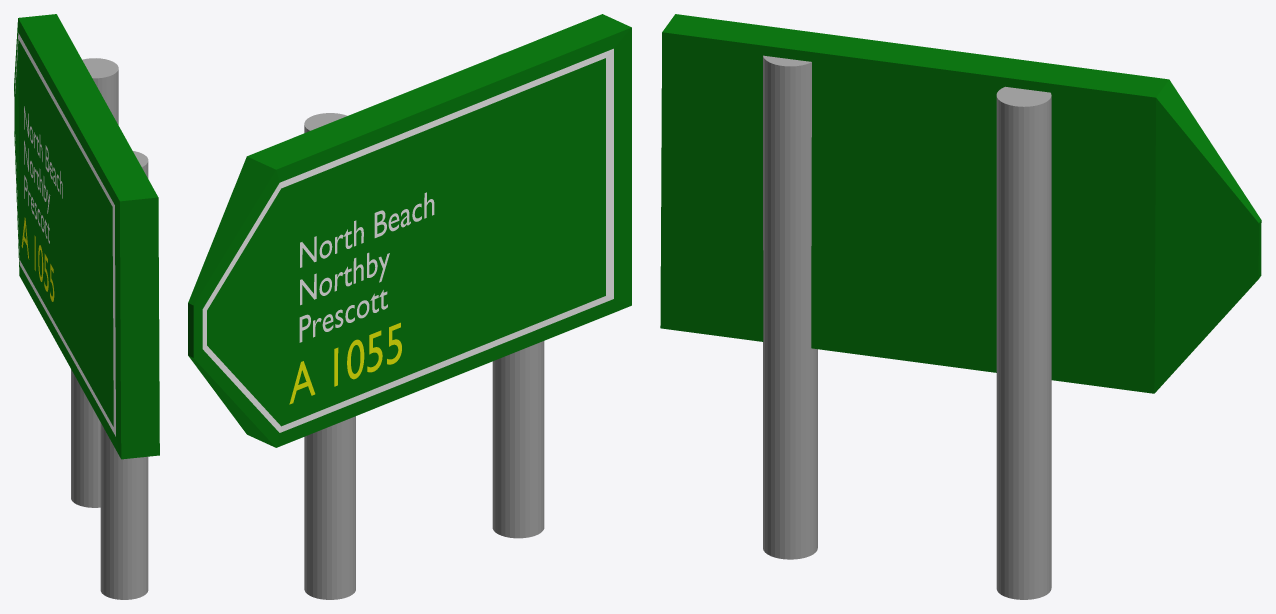
Rendered from ChevronLeftHalifaxParkRoundabout3.fbx.
3 views of the same model, side by side, from view 1: azimuth 30°, elevation 25°; view 2: azimuth 150°, elevation 25°; view 3: azimuth 270°, elevation 25° (orthographic). The views are drawn at different scales.
Parts seen in each view (by area): view 1: Cube.030, Cylinder.002, Cylinder.001, Text.007, Text.008; view 2: Cube.030, Cylinder.002, Cylinder.001, Text.007, Text.008; view 3: Cube.030, Cylinder.001, Cylinder.002.
Boxes of the visible parts, x1,y1,x2,y2 form: Cube.030: [14, 14, 159, 459]; Cylinder.002: [100, 151, 148, 599]; Cylinder.001: [71, 58, 118, 507]; Text.007: [24, 106, 62, 243]; Text.008: [21, 217, 54, 301]; Cube.030: [188, 14, 631, 447]; Cylinder.002: [492, 53, 544, 538]; Cylinder.001: [304, 113, 355, 599]; Text.007: [299, 192, 434, 342]; Text.008: [289, 322, 401, 404]; Cube.030: [660, 14, 1261, 393]; Cylinder.001: [996, 86, 1051, 599]; Cylinder.002: [763, 55, 817, 559].
Bounding box in the file's own units: 142 × 382 × 413.
